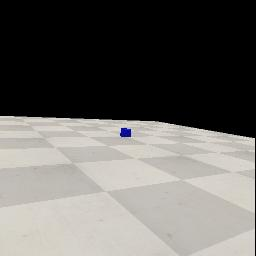box: (120, 128, 131, 137)
